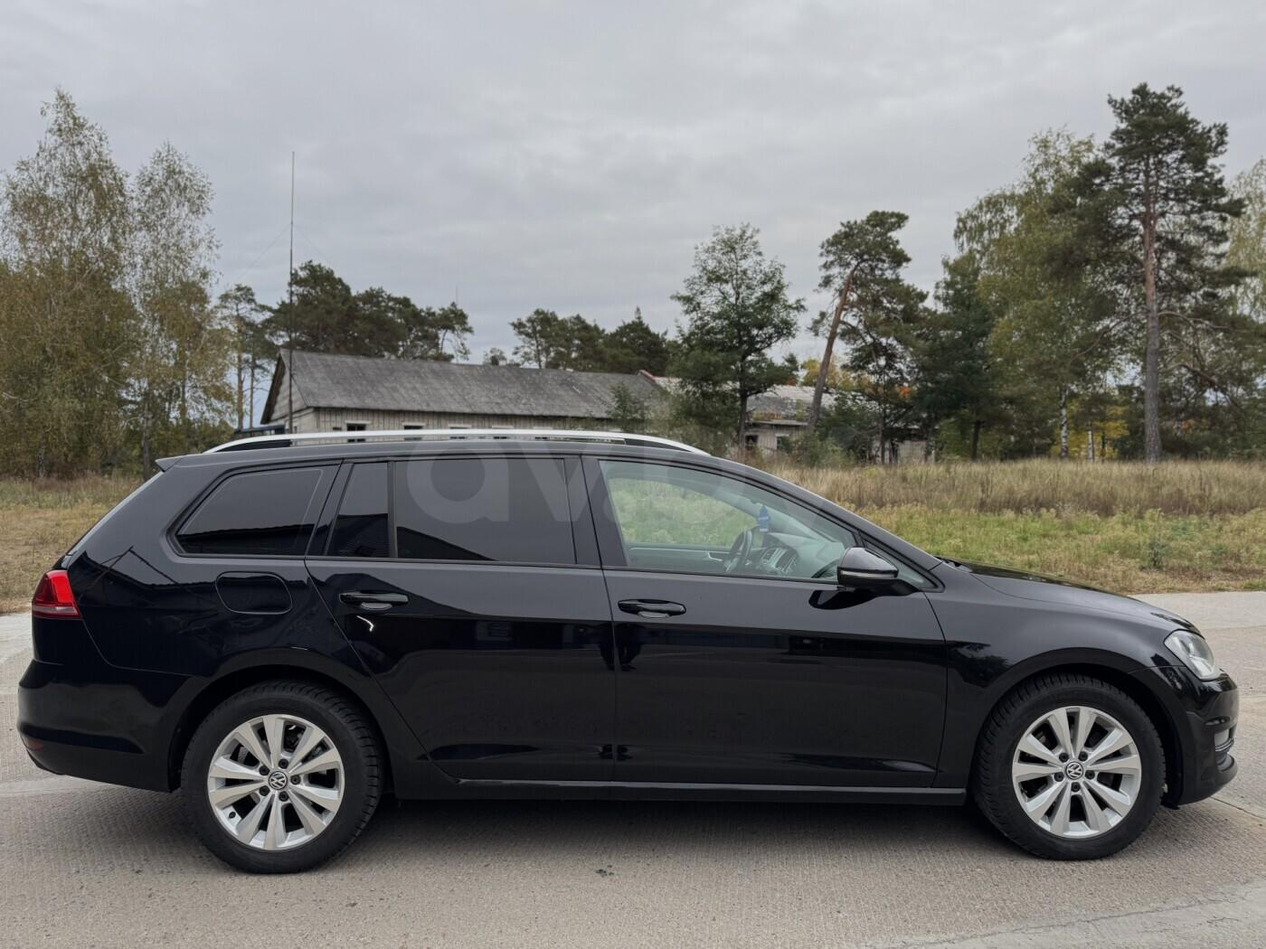Golf_2012-2017: (2, 420, 1239, 876)
